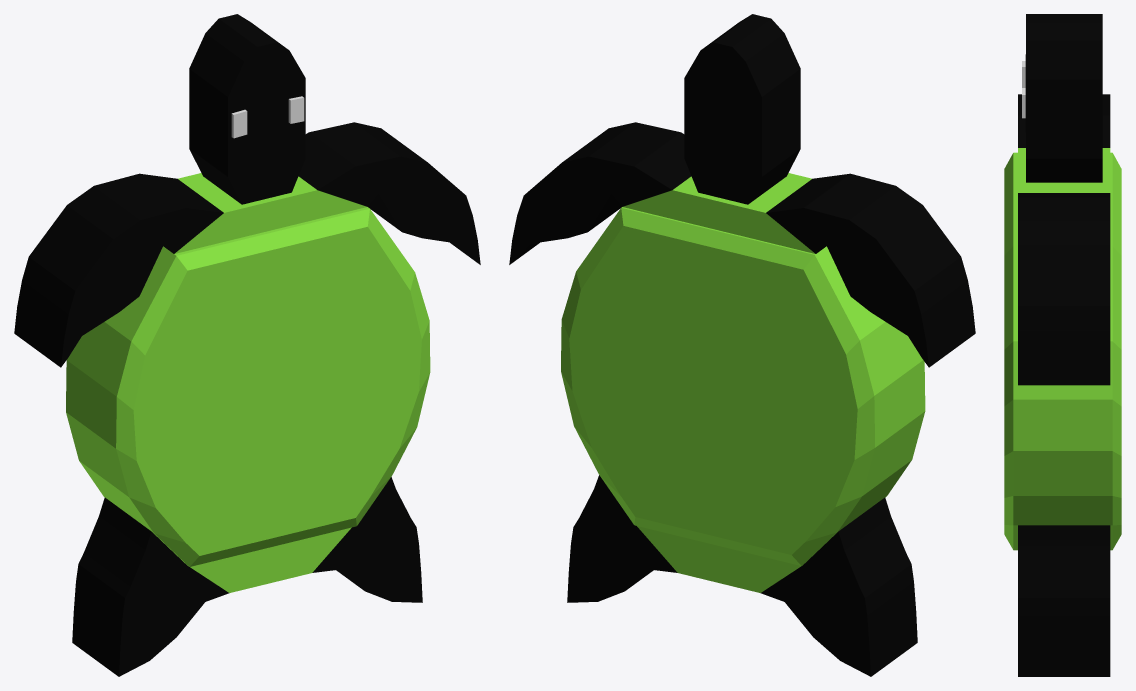
The model's file is SlowPowerUpModel.fbx.
3 views of the same model, side by side, from view 1: azimuth 30°, elevation 25°; view 2: azimuth 150°, elevation 25°; view 3: azimuth 270°, elevation 25° (orthographic).
Parts seen in each view (by area): view 1: Cube; view 2: Cube; view 3: Cube.
Part boxes in pixels (bbox=[...]): Cube: bbox=[14, 14, 480, 676]; Cube: bbox=[509, 14, 975, 676]; Cube: bbox=[1004, 14, 1121, 676].
Bounding box in the file's own units: 655 × 883 × 160.
